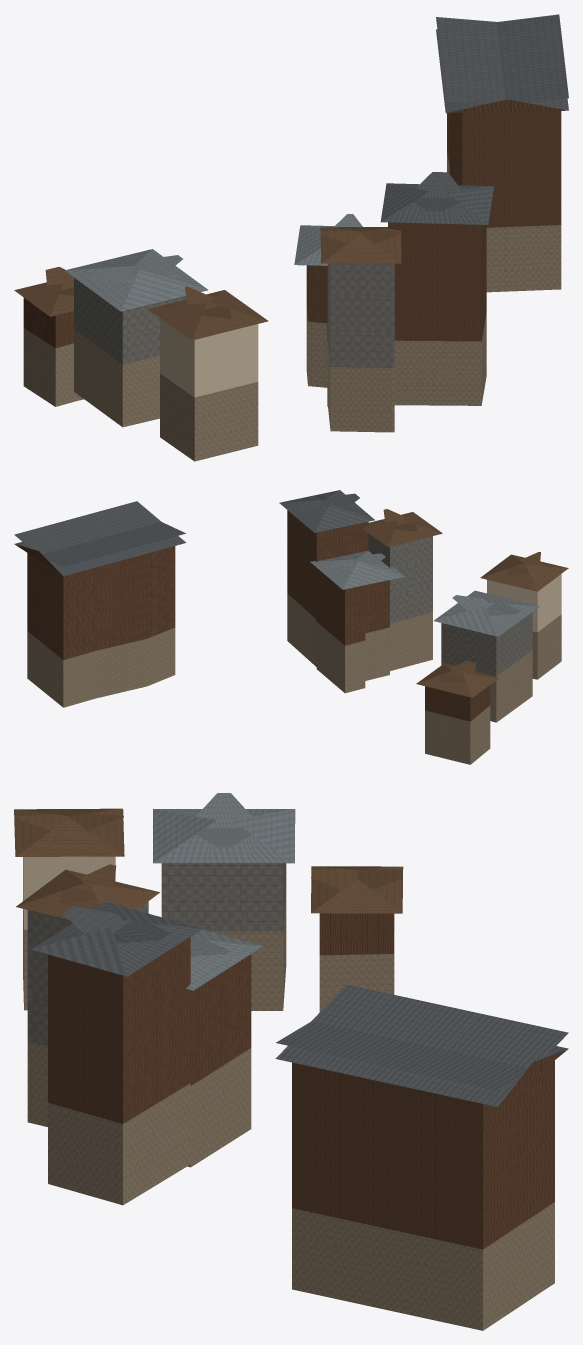
The model's file is bld_c32_46_243.gltf.
3 renders of one model, top to bottom at view 1: azimuth 30°, elevation 25°; view 2: azimuth 150°, elevation 25°; view 3: azimuth 270°, elevation 25°, orthographic. The views are drawn at different scales.
Visible parts, largest first — view 1: bld_c32_46_243; view 2: bld_c32_46_243; view 3: bld_c32_46_243.
Boxes of the visible parts, bbox=[...] form: bld_c32_46_243: bbox=[14, 14, 568, 461]; bld_c32_46_243: bbox=[14, 490, 568, 764]; bld_c32_46_243: bbox=[14, 793, 568, 1330].
Size of the model in its own units: 48.28 by 15.9 by 31.56.
8 materials, 8 textured.
